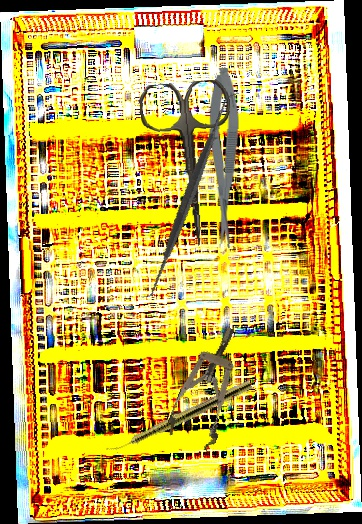Handpiece: (105, 377, 253, 459)
Iris Scissors: (138, 78, 242, 250)
Micro Scissor: (206, 67, 240, 249)
Spatula Surgical: (88, 90, 292, 300)
Speculum: (163, 319, 256, 453)
